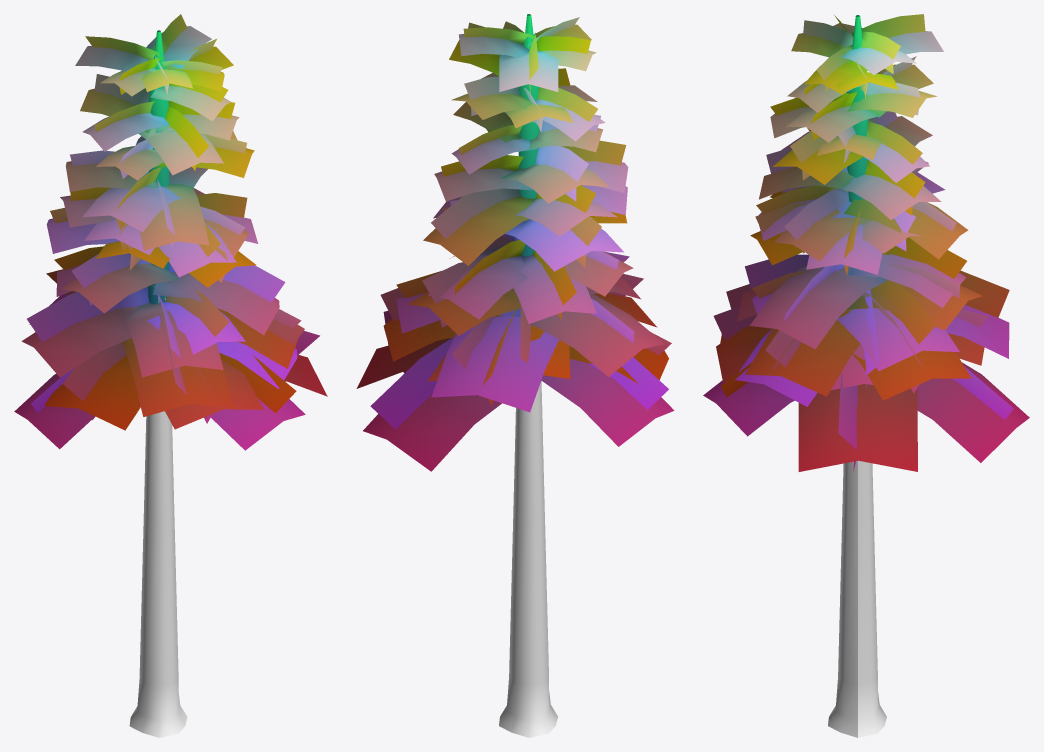
Rendered from SM_Tree_Pine_04.fbx.
The picture shows the model from 3 angles, left to right: view 1: azimuth 30°, elevation 25°; view 2: azimuth 150°, elevation 25°; view 3: azimuth 270°, elevation 25°; orthographic projection. The views are drawn at different scales.
Visible parts, largest first — view 1: SM_Tree_Pine_04_LOD0; view 2: SM_Tree_Pine_04_LOD0; view 3: SM_Tree_Pine_04_LOD0.
Part boxes in pixels (left/top/right/bottom): SM_Tree_Pine_04_LOD0: left=14, top=14, right=327, bottom=737; SM_Tree_Pine_04_LOD0: left=356, top=14, right=674, bottom=737; SM_Tree_Pine_04_LOD0: left=703, top=14, right=1029, bottom=737.
Size of what is drawn, in the model's own units: 7.6 by 17.7 by 7.41.
